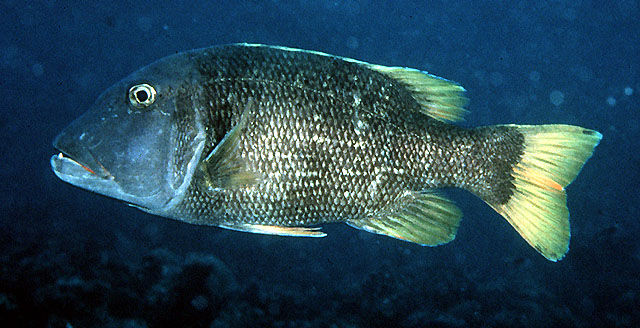fish: (50, 42, 605, 263)
